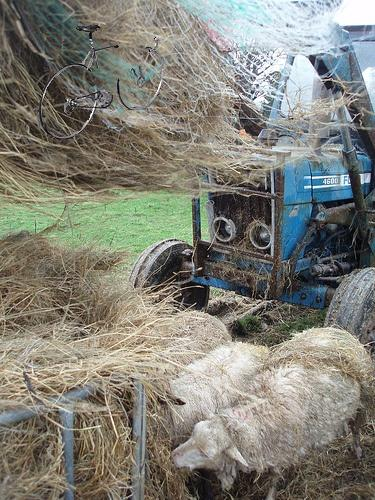tampered: (39, 26, 162, 139)
